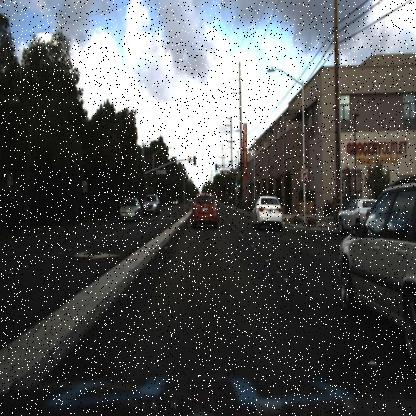car: (328, 183, 416, 384), (186, 188, 228, 237), (248, 190, 285, 238), (332, 196, 373, 234), (116, 194, 146, 223), (115, 196, 143, 224), (141, 190, 161, 216), (144, 194, 160, 215)
trafficLight-Green: (212, 160, 222, 180), (234, 180, 238, 192), (238, 180, 242, 192)
